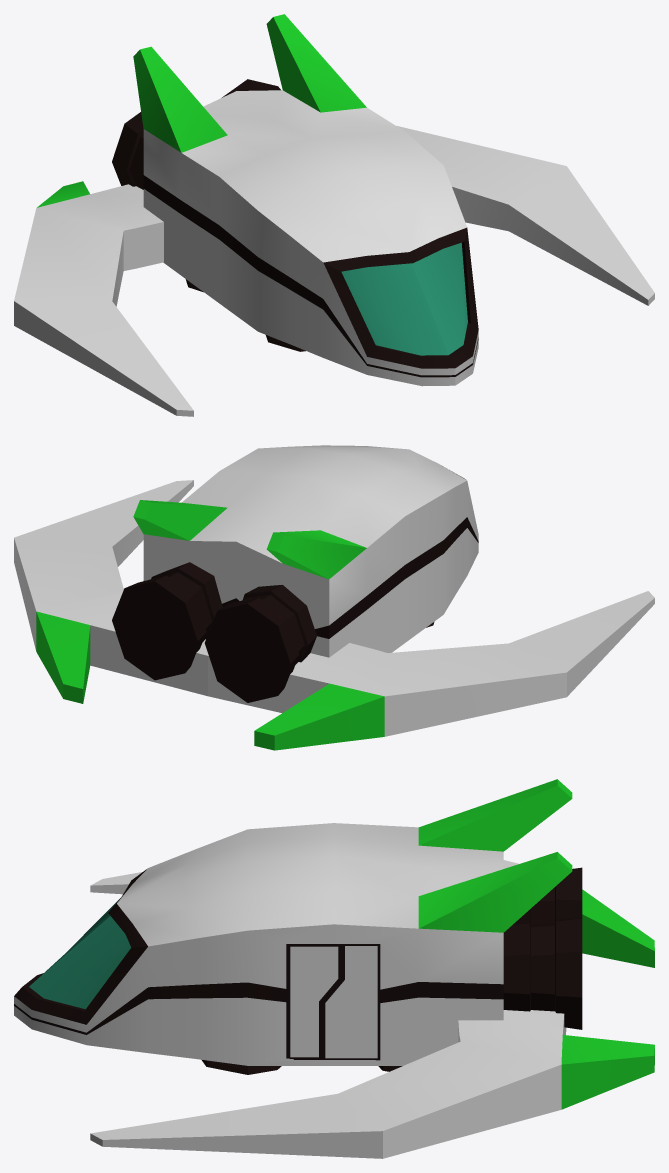
The model's file is Nave.fbx.
3 views of the same model, one above another, from view 1: azimuth 30°, elevation 25°; view 2: azimuth 150°, elevation 25°; view 3: azimuth 270°, elevation 25° (orthographic). The views are drawn at different scales.
Parts seen in each view (by area): view 1: Nave, Cube.001, NaveVentana; view 2: Nave, Cube.001; view 3: Nave, Cube.001, PuertaNave.001, PuertaNave, NaveVentana.
Part boxes in pixels (x1=…): Nave: x1=112, y1=14, x2=478, y2=386; Cube.001: x1=14, y1=125, x2=654, y2=416; NaveVentana: x1=341, y1=242, x2=467, y2=355; Nave: x1=112, y1=445, x2=478, y2=702; Cube.001: x1=14, y1=480, x2=654, y2=750; Nave: x1=14, y1=779, x2=582, y2=1074; Cube.001: x1=90, y1=860, x2=654, y2=1158; PuertaNave.001: x1=322, y1=944, x2=380, y2=1060; PuertaNave: x1=286, y1=944, x2=342, y2=1059; NaveVentana: x1=29, y1=897, x2=131, y2=1009.
Size of the model in its own units: 18.09 by 5.92 by 16.25.
